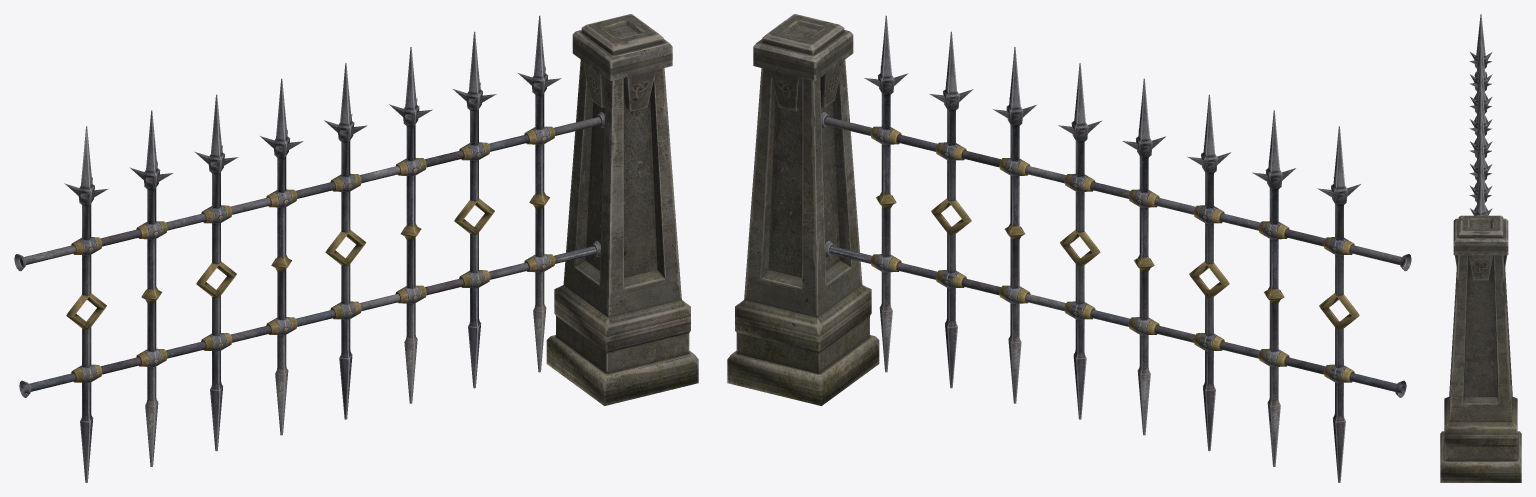
The model's file is old-stone-fence.glb.
The picture shows the model from 3 angles, left to right: view 1: azimuth 30°, elevation 25°; view 2: azimuth 150°, elevation 25°; view 3: azimuth 270°, elevation 25°; orthographic projection. The views are drawn at different scales.
Parts seen in each view (by area): view 1: old_stone_fence; view 2: old_stone_fence; view 3: old_stone_fence.
Part boxes in pixels (x1,y1,x2,y2): old_stone_fence: [14, 14, 698, 482]; old_stone_fence: [727, 14, 1411, 482]; old_stone_fence: [1440, 14, 1521, 482].
Size of the model in its own units: 4.54 by 2.52 by 0.6964.
Materials: 1 (1 with a texture image).
